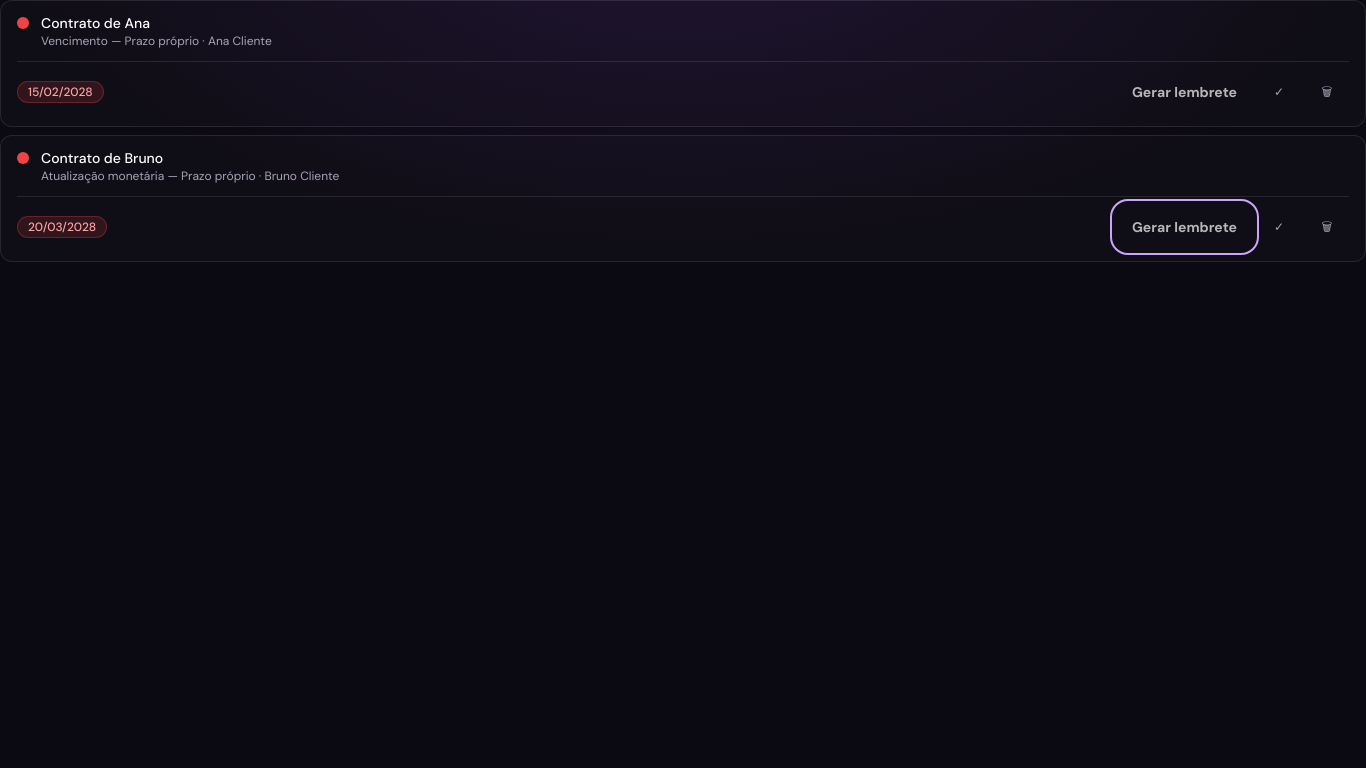
Test: proteções da agenda › gera o lembrete do segundo evento com seus próprios dados e devolve foco ao fechar
What coordinates should you click on to do the following:
click the button "Gerar lembrete" in the row of "20/03/2028"
I would click on:
 (1184, 227)
Its box is left=1116, top=205, right=1253, bottom=249.
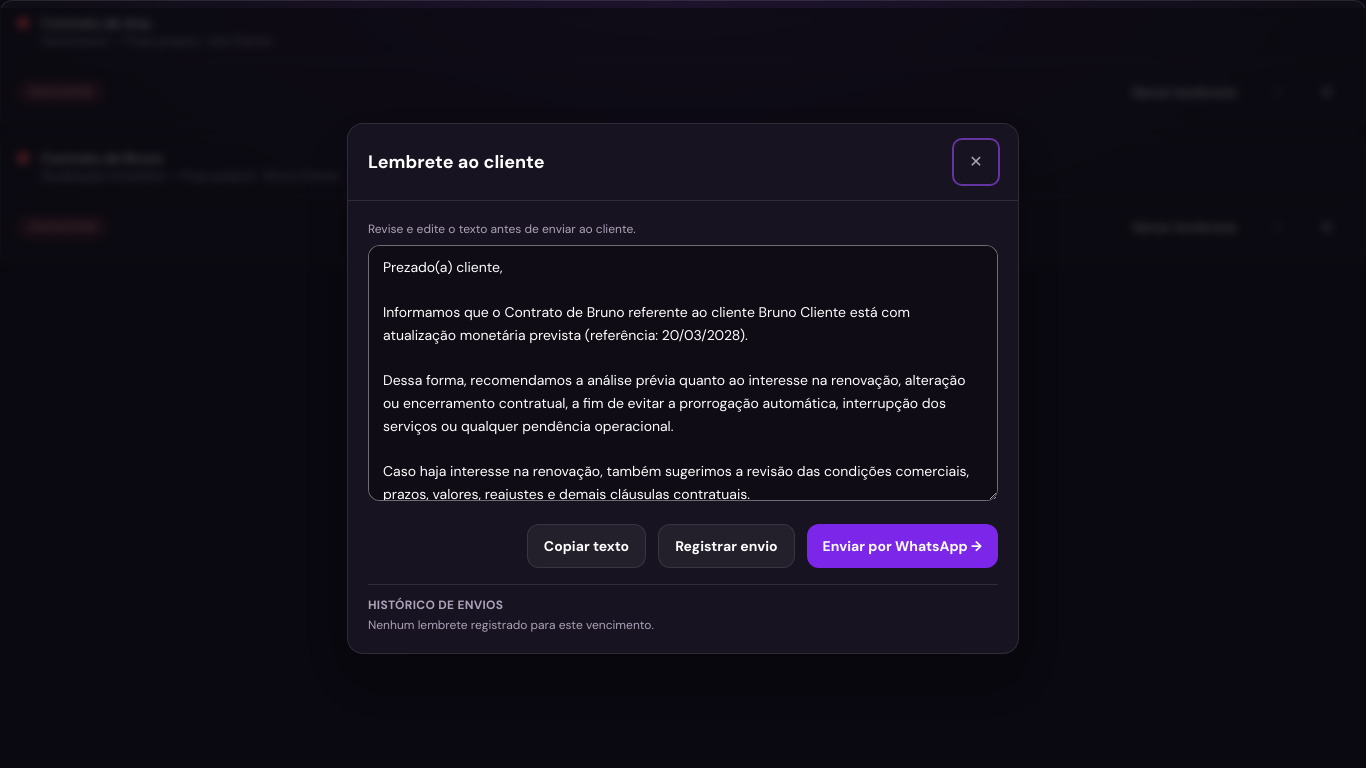
What coordinates should you click on to do the following:
click the button named "Fechar"
I would click on:
 (976, 162)
Its box is left=954, top=140, right=998, bottom=184.
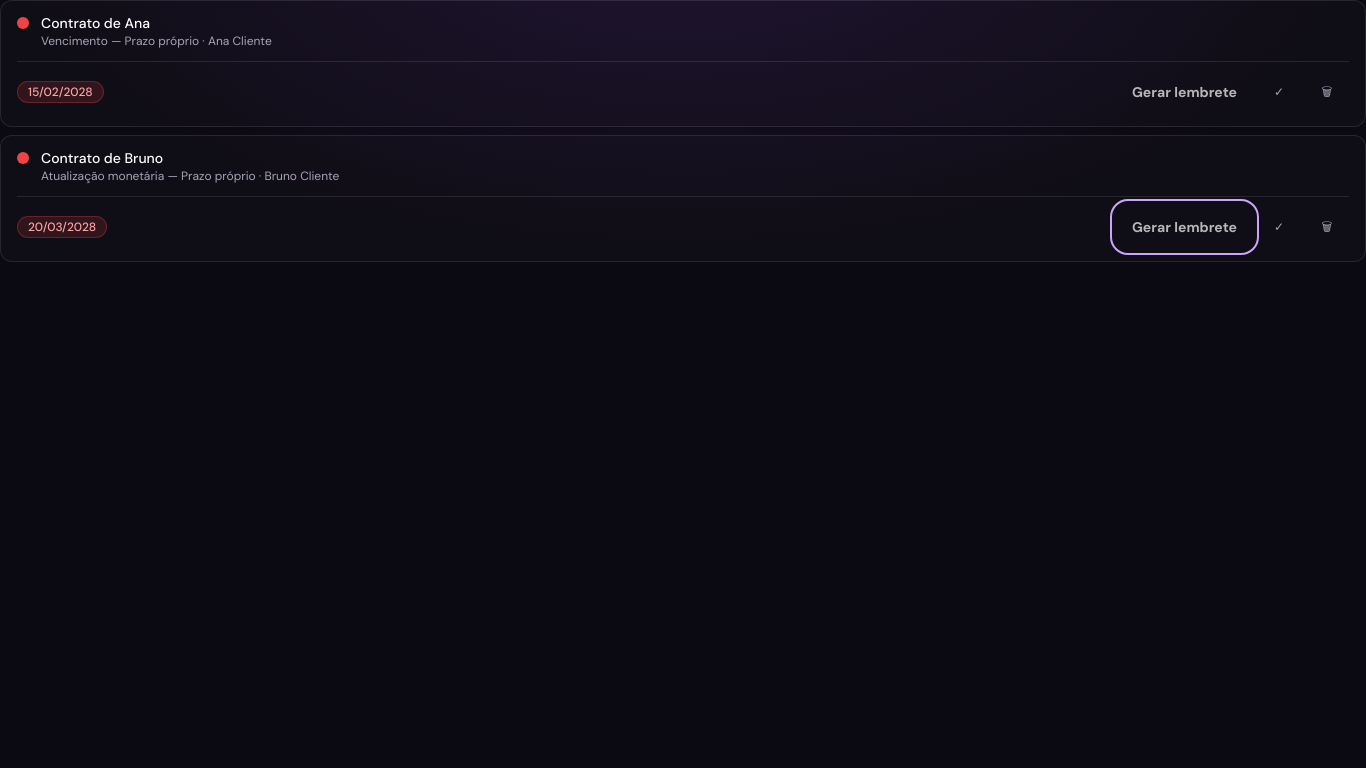
Now the dialog is gone
